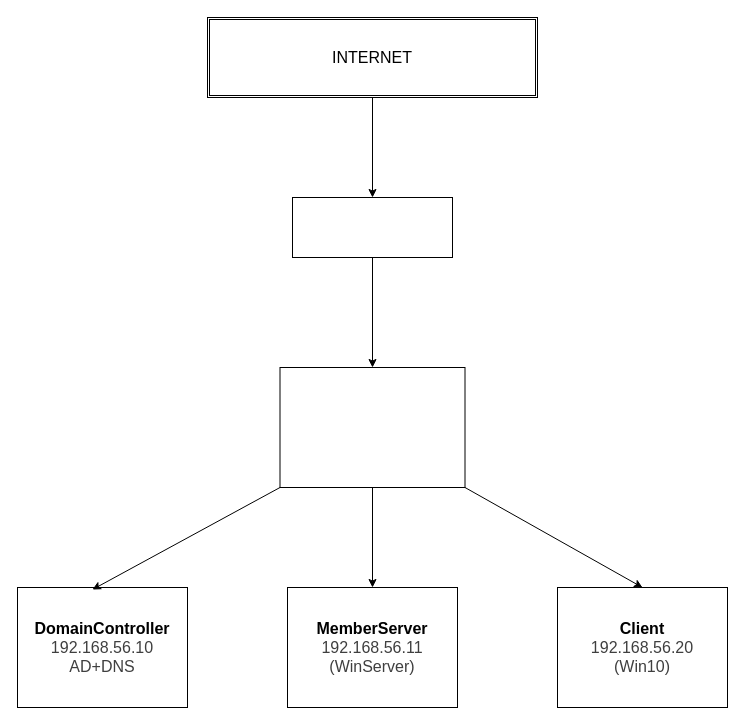
Some shapes in this 745 by 725 pixel diagram are drawn without their labels. The box of each missing label's shape, as (x1, y1, x2, y2) in pixels:
Host OS (Windows 10) vboxnet0:192.168.56.1: (279, 366, 465, 488)
NAT: (292, 196, 452, 258)
